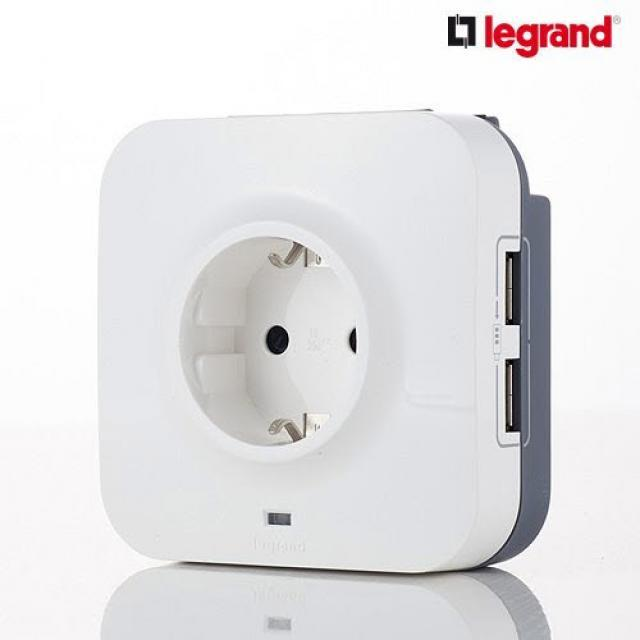typeb: (87, 90, 582, 594)
